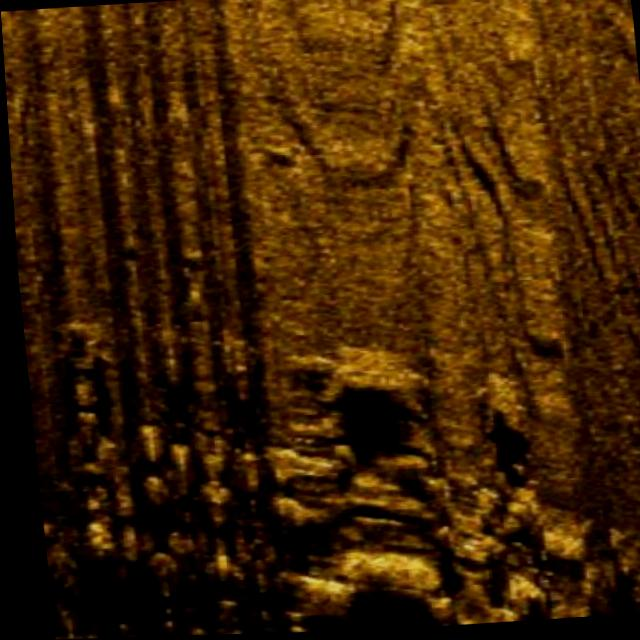bedrock group: (54, 294, 587, 639)
